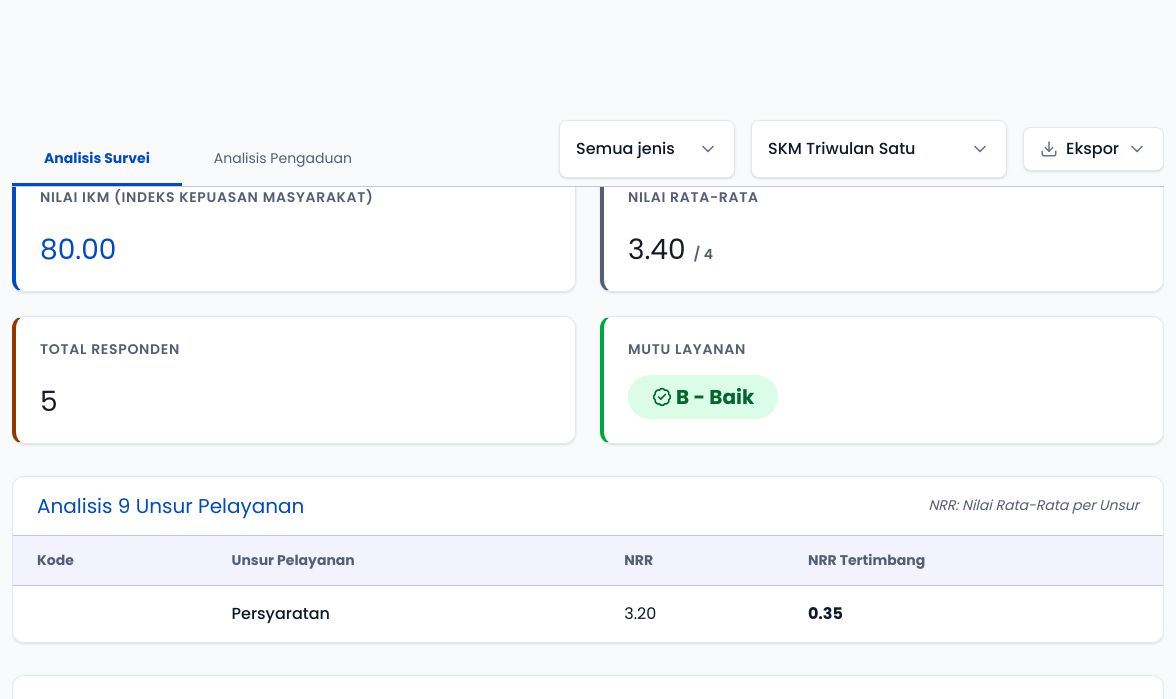
Test: Statistik Admin OPD — penyaring jenis survei › tak ada survei berjenis itu pada periode: pesan menyebut jenisnya, penyaring tetap ada
The image size is (1176, 699).
Click the button named "jenis survei" at [647, 149], box [559, 120, 735, 178]
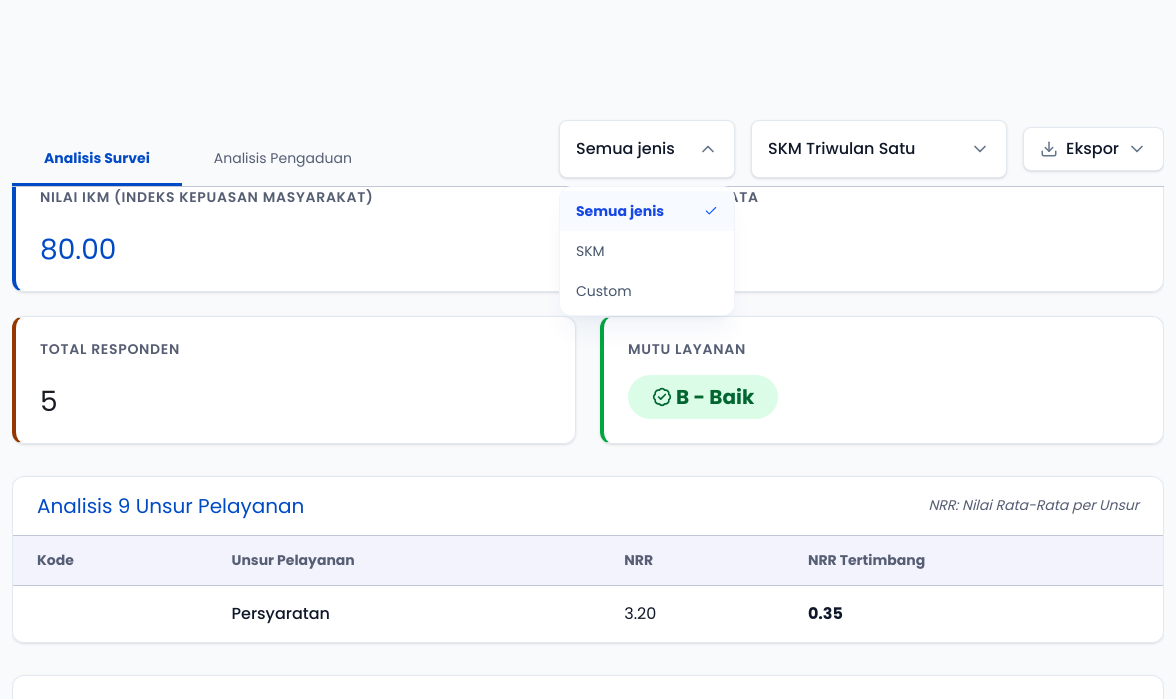
Click the button "Custom" at [647, 291], box [560, 271, 734, 311]
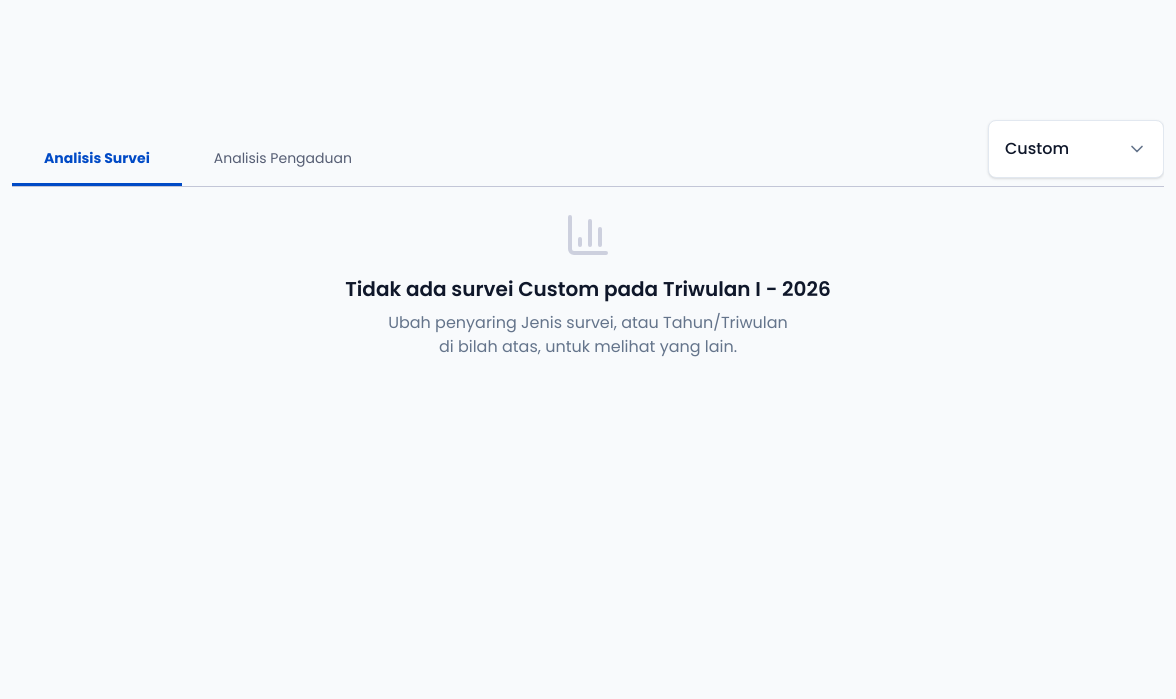
Expected: the button named "jenis survei" is shown, [988, 120, 1164, 178]
Expected: the heading "Tidak ada survei Custom pada Triwulan I - 2026" is shown, [345, 275, 831, 303]
